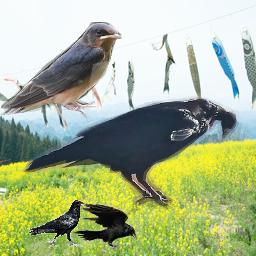Crow: (21, 96, 239, 209), (72, 203, 137, 250), (28, 200, 86, 247)
Swallow: (1, 22, 122, 120)
